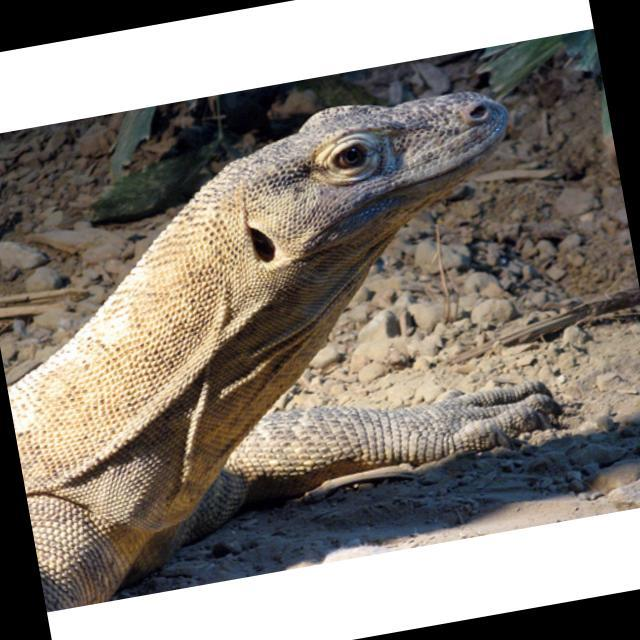KomodoDragon: (0, 73, 580, 609)
